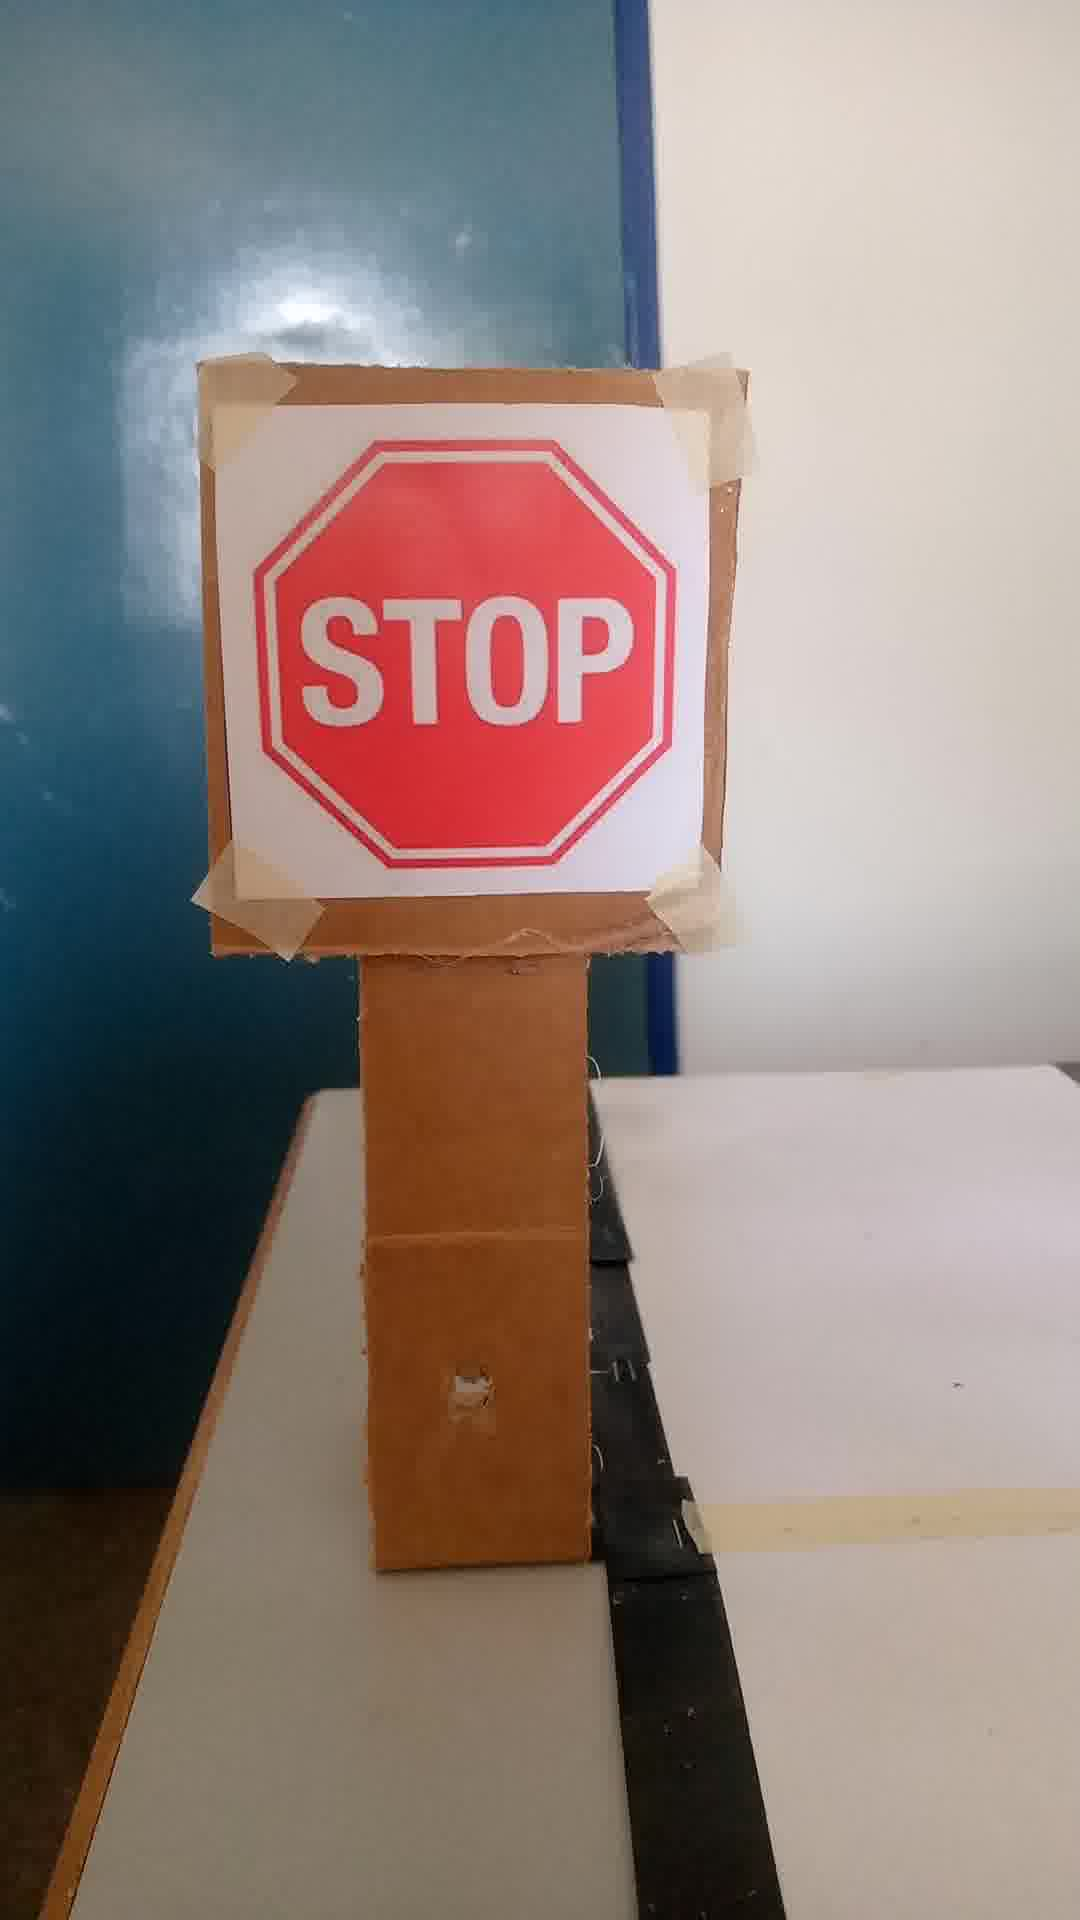panel101: (207, 397, 702, 909)
